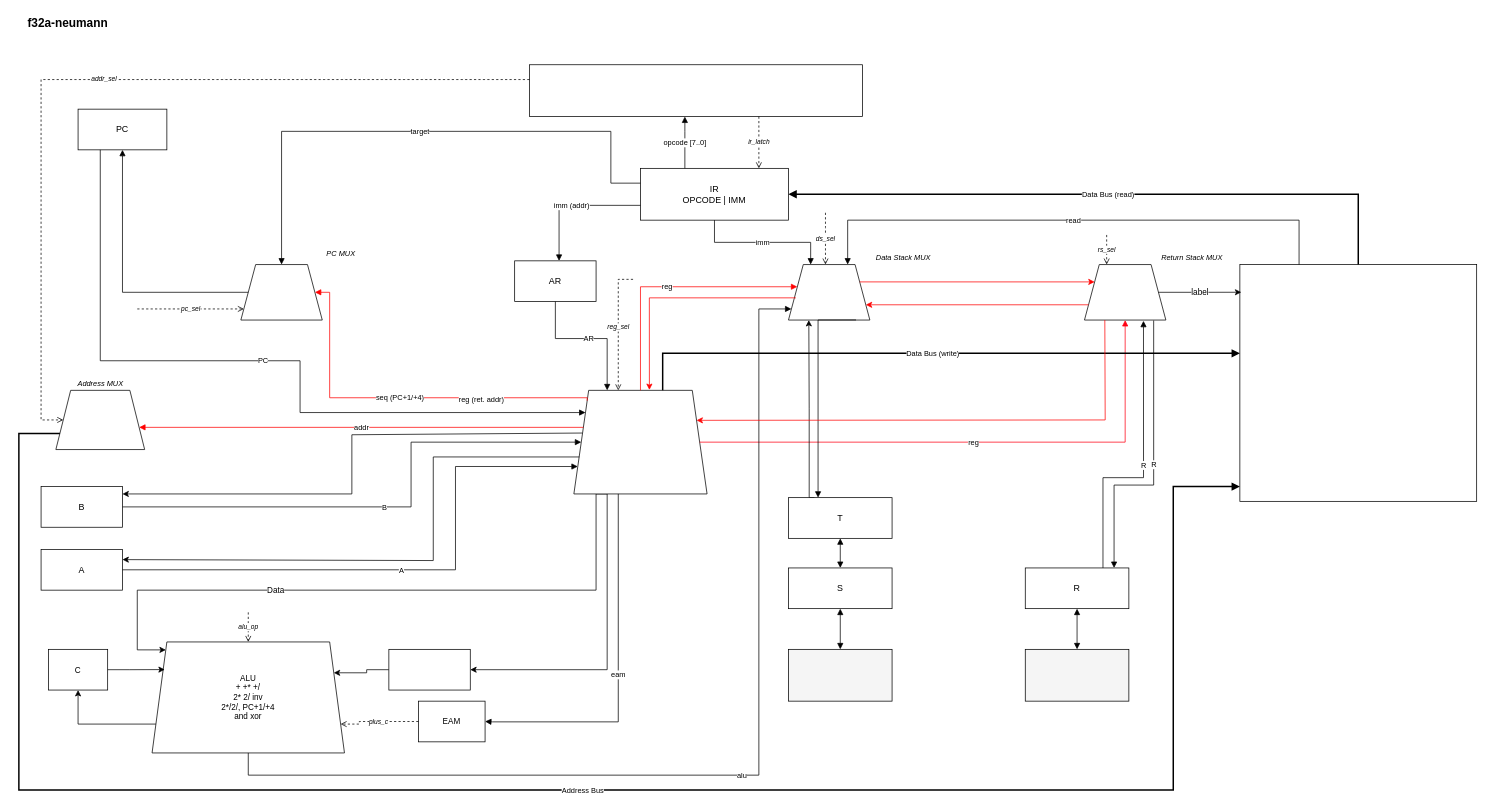
Some shapes in this 1490 by 809 pixel diagram are drawn without their labels. The box of each missing label's shape, as (x1, y1, x2, y2) in pixels:
BUFFER: (388, 649, 470, 690)
Control Unit (decoder): (529, 64, 862, 117)
Data Stack: (788, 649, 892, 701)
MEM (shared code + data, von Neumann): (1239, 264, 1477, 501)
Register MUX: (573, 390, 707, 494)
Return Stack: (1025, 649, 1129, 701)
